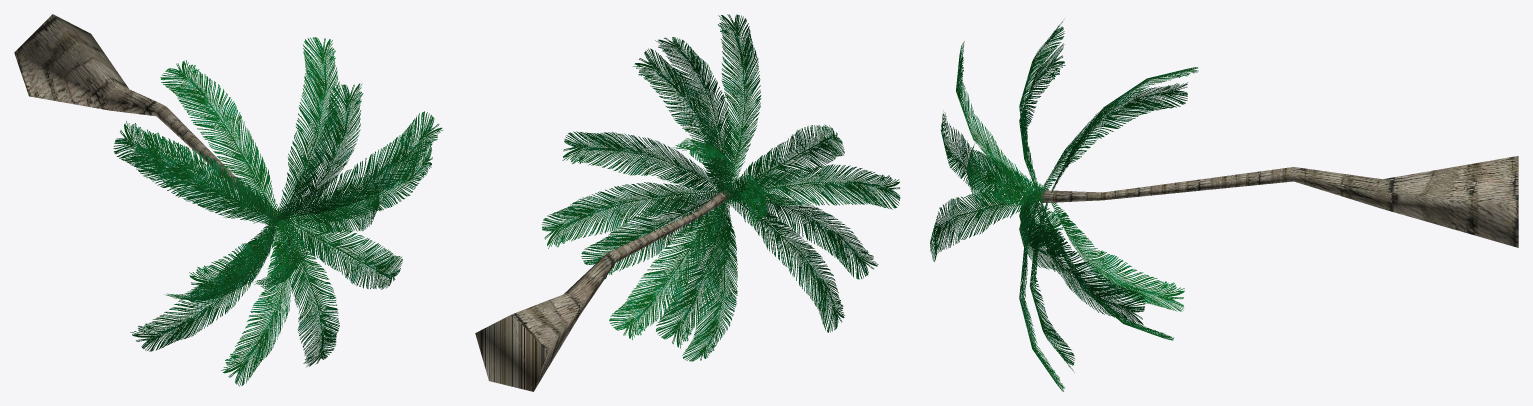
Rendered from palm7.obj.
3 views of the same model, side by side, from view 1: azimuth 30°, elevation 25°; view 2: azimuth 150°, elevation 25°; view 3: azimuth 270°, elevation 25° (orthographic). The views are drawn at different scales.
Parts seen in each view (by area): view 1: l1_70, palm_tree1; view 2: l1_70, palm_tree1; view 3: l1_70, palm_tree1.
Boxes of the visible parts, x1,y1,x2,y2 form: l1_70: [113, 37, 443, 386]; palm_tree1: [14, 14, 284, 224]; l1_70: [541, 14, 900, 361]; palm_tree1: [475, 189, 730, 391]; l1_70: [930, 21, 1198, 391]; palm_tree1: [1038, 156, 1518, 247].
Size of the model in its own units: 22.75 by 23.76 by 36.4.
2 materials, 2 textured.
